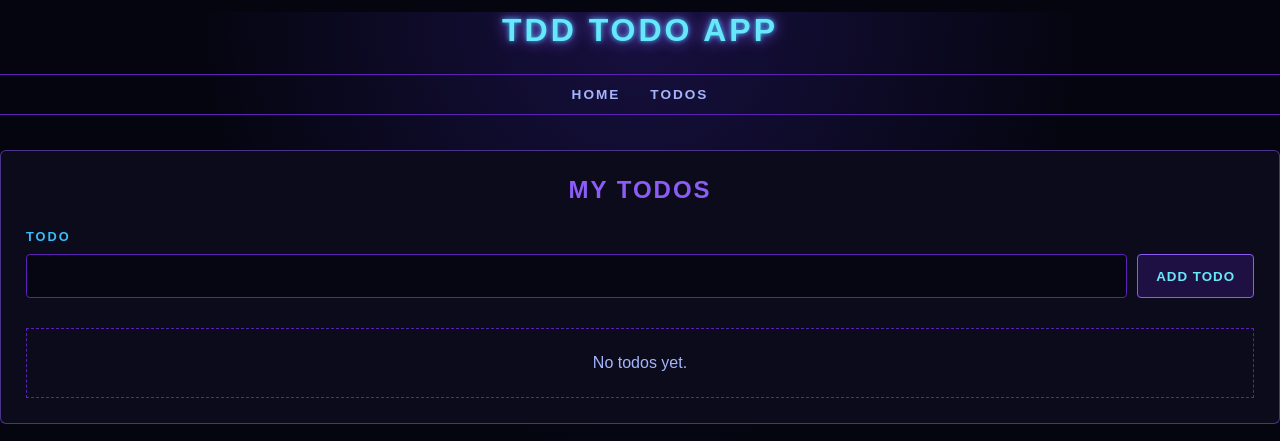
Test: Todo App Integration › allows a user to create a todo
The width and height of the screenshot is (1280, 441).
Type "Finish Jest assignment" into the field labelled "Todo" at (577, 276), box [26,254,1127,298]
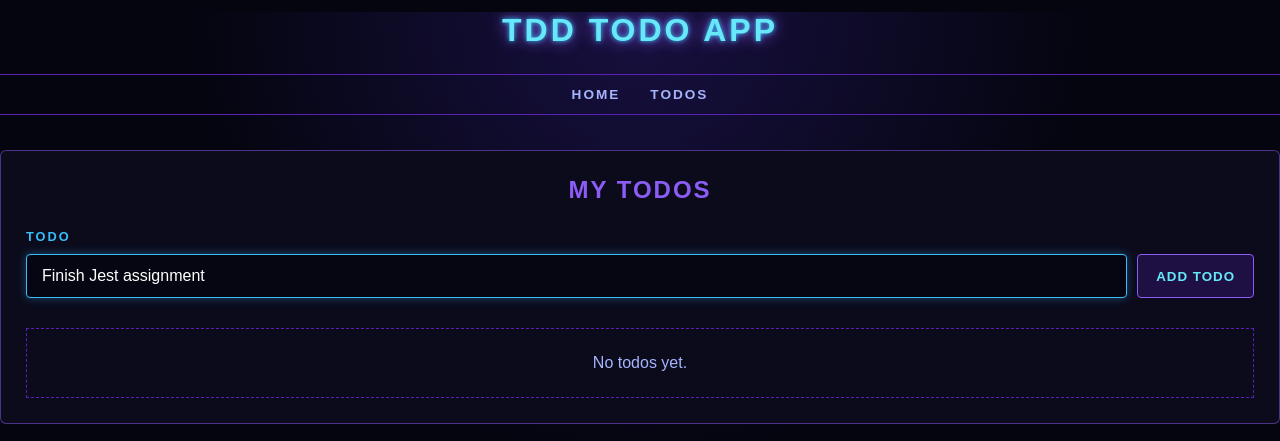
Click the button "Add Todo" at (1196, 276), box [1137,254,1254,298]
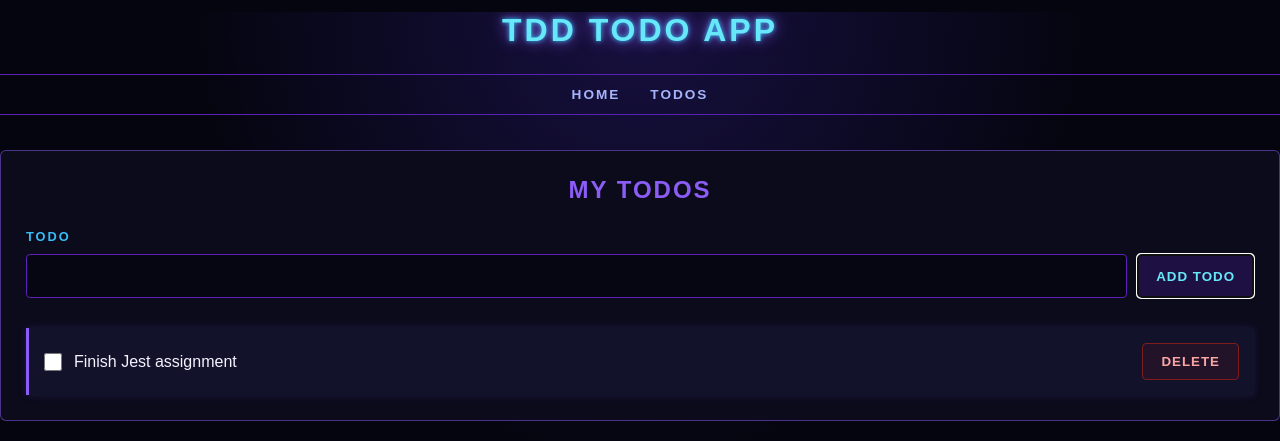
Expected: the text "Finish Jest assignment" is shown, [74,352,237,370]
